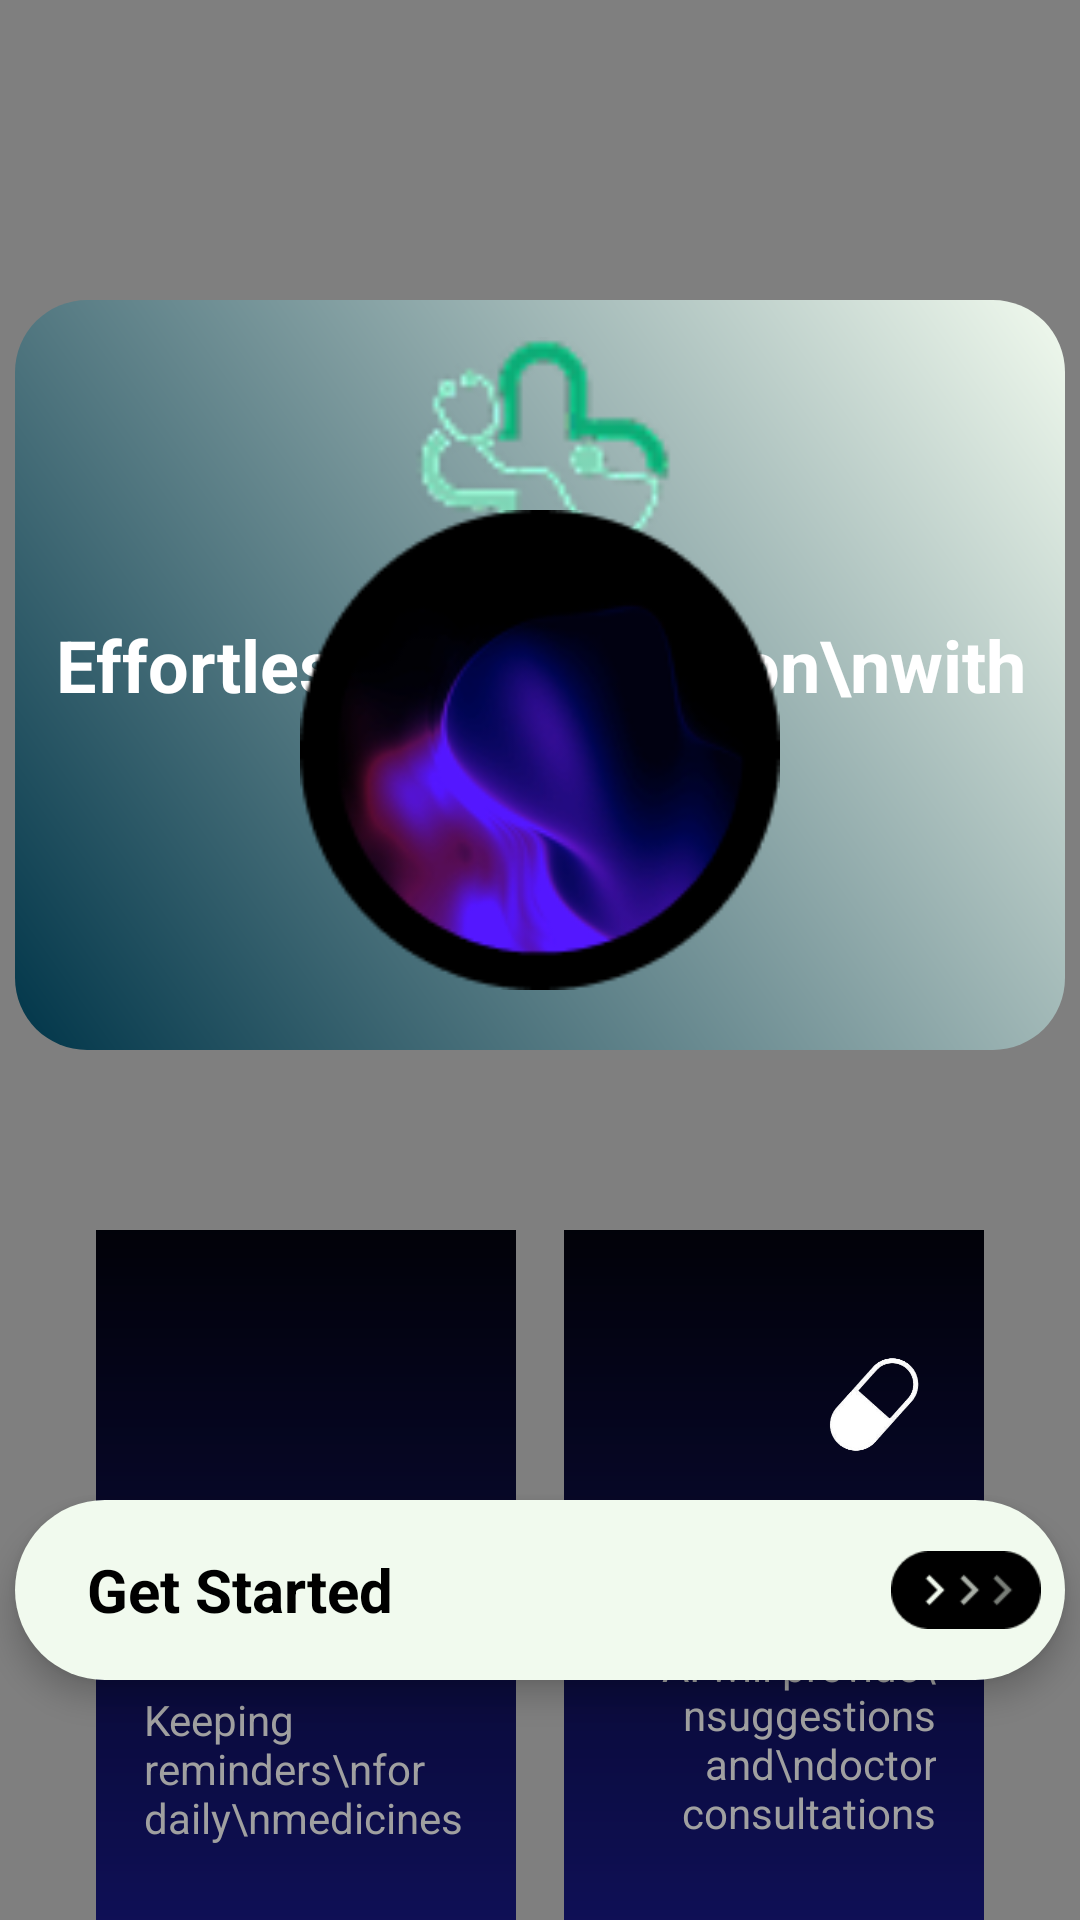

Icons on this 1080w x 1920h Android screen, each with its box as (x1, y1, x2, y2):
Tablet: (830, 1358, 919, 1451)
